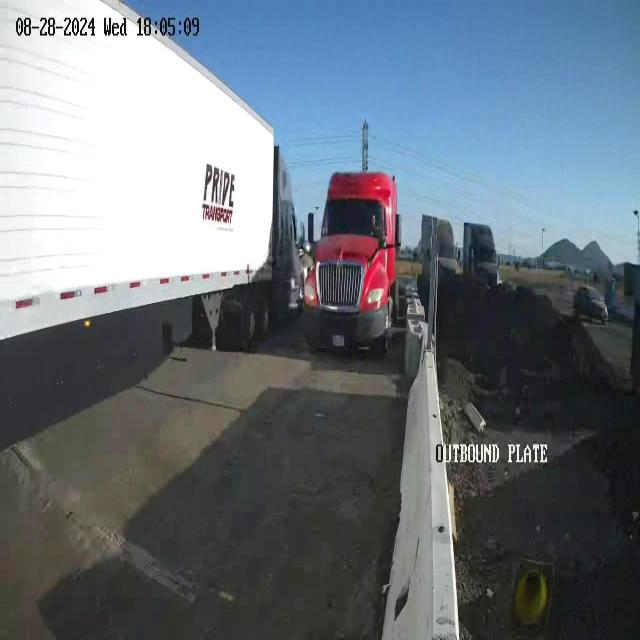CONTAINER: (0, 9, 278, 339)
